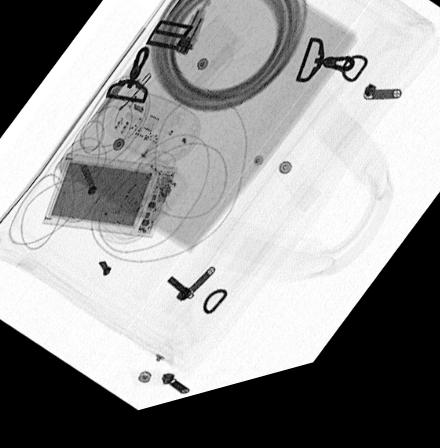Powerbank: (40, 157, 176, 246)
